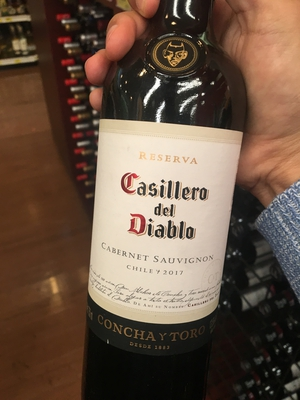casillero del diablo cabernet sauvignon: (86, 22, 250, 400)
